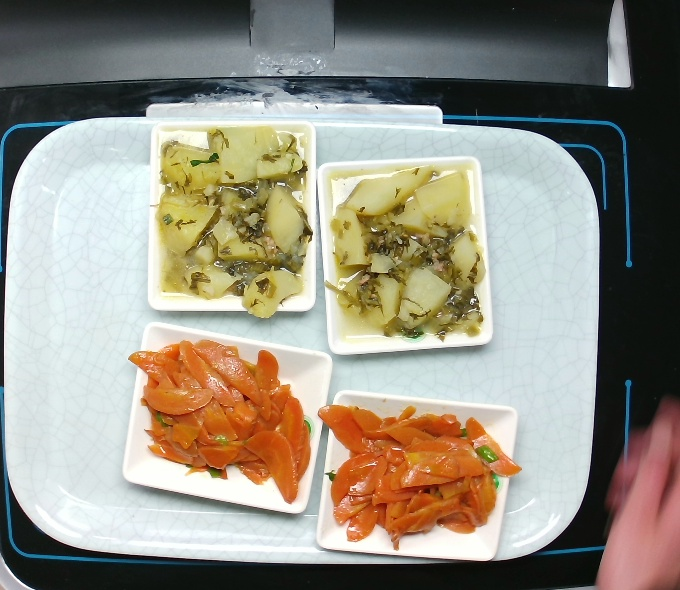wcq-HuLuoBo: (132, 334, 317, 500), (320, 400, 510, 541)
wcq-XueCaiTuDou: (327, 163, 480, 352), (157, 127, 306, 303)
